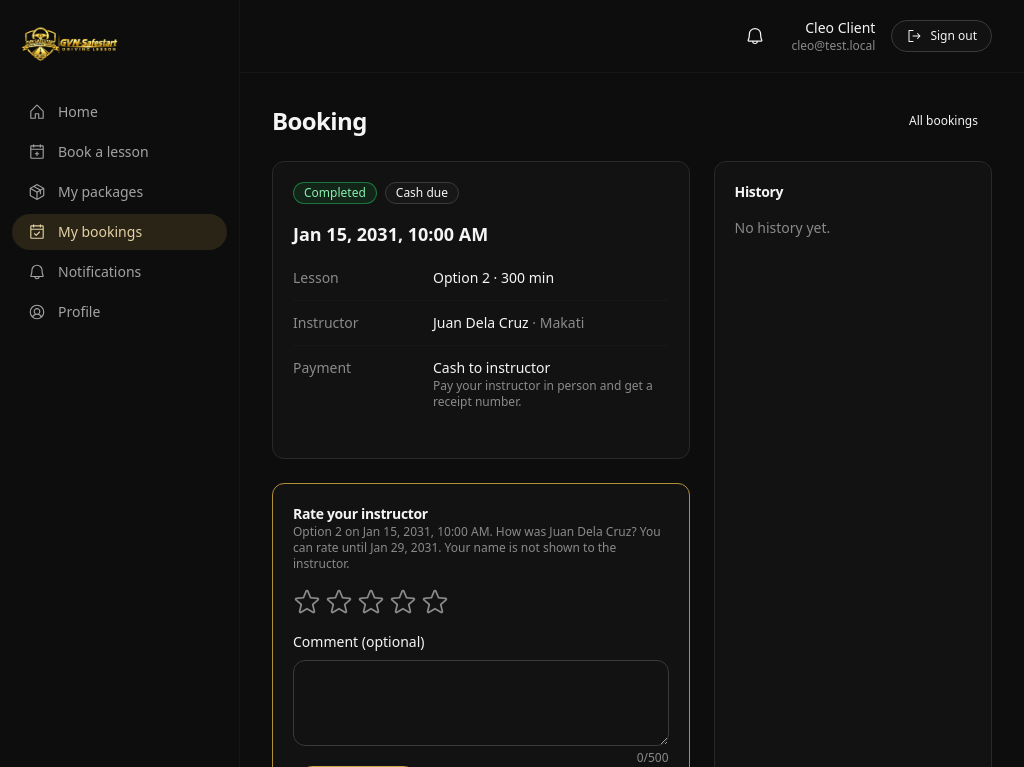
Scenario: rating panel on a booking › shows the form when rating is open and surfaces the API message
Click the radio button named "5 stars". click: (435, 602)
box: x1=421 y1=588 x2=449 y2=616
(page scrolled)
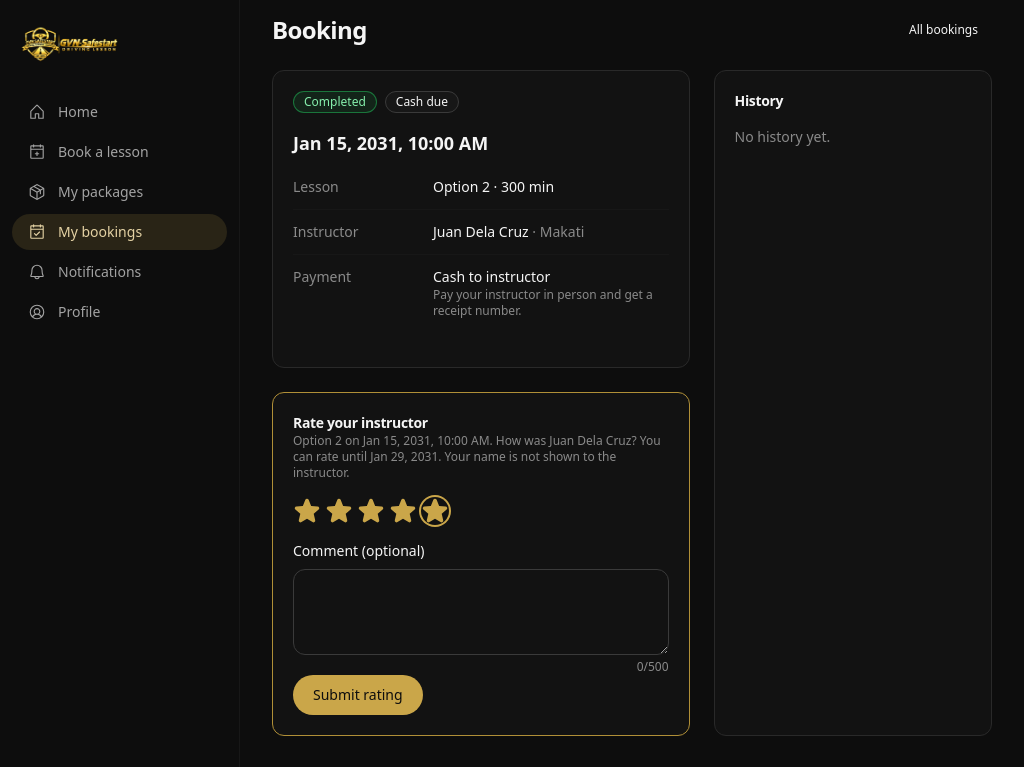
Click the button "Submit rating". click: (358, 695)
box: x1=293 y1=675 x2=423 y2=715
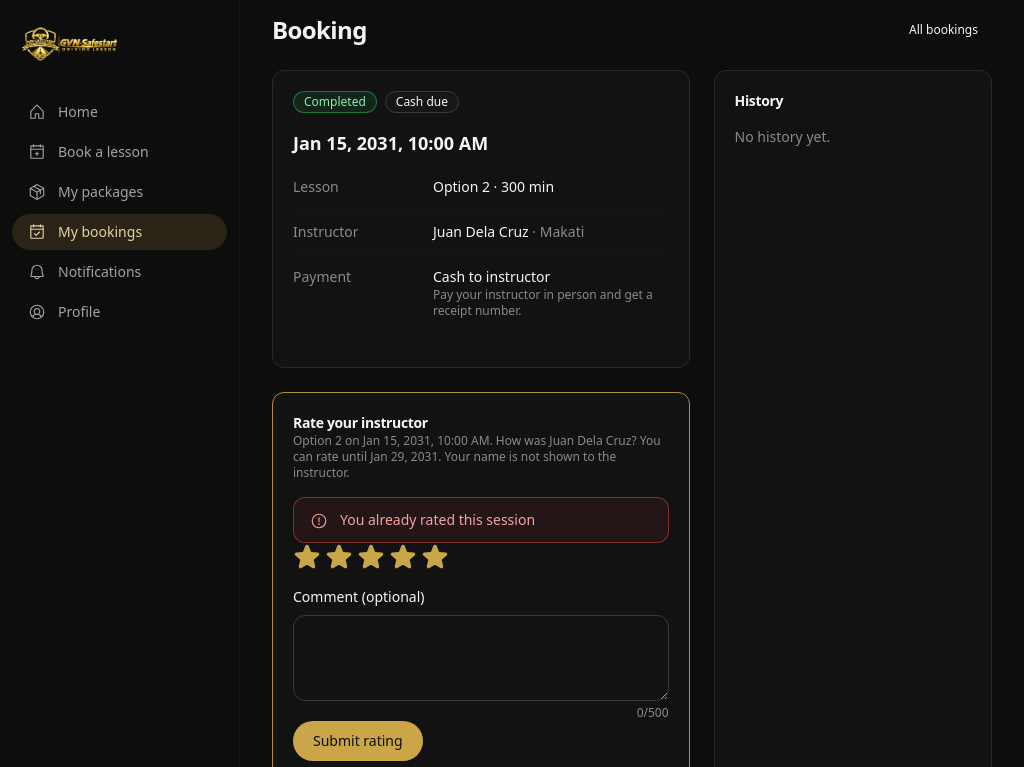
Check: the text "You already rated this session" is shown, box x1=340 y1=510 x2=535 y2=530
